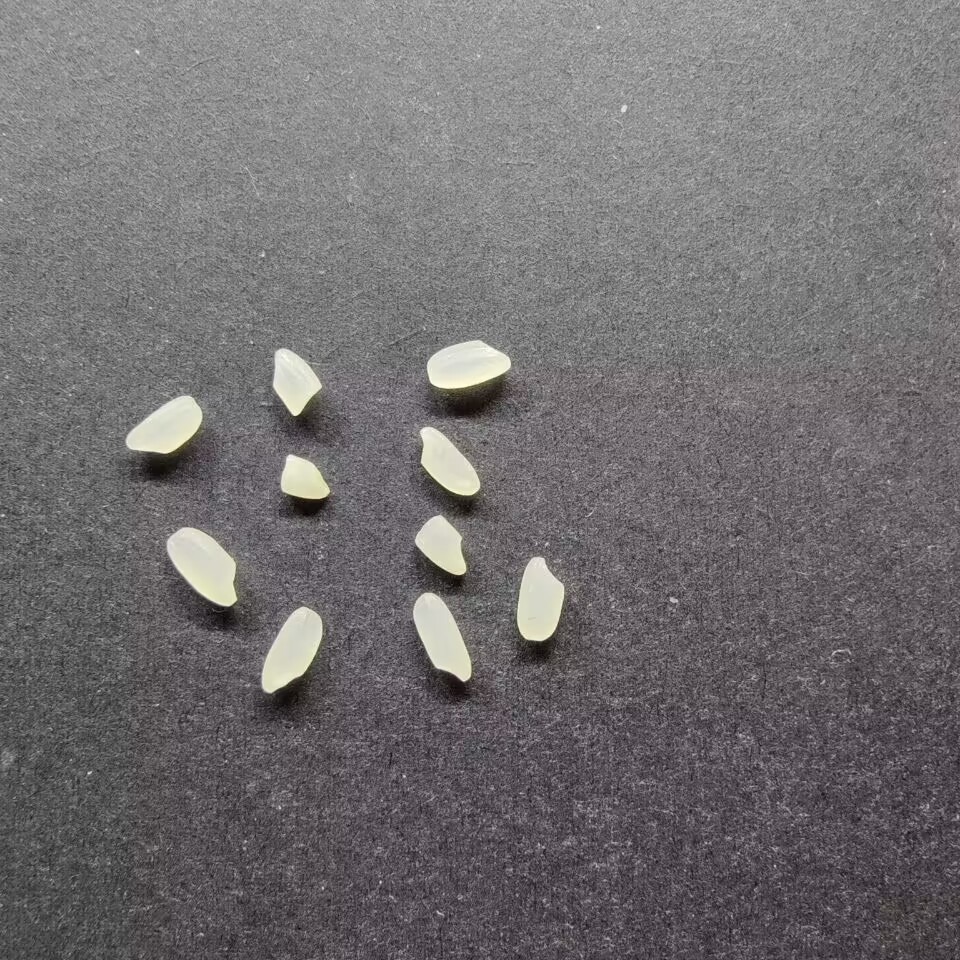broken: (268, 346, 325, 418), (412, 514, 469, 579), (280, 452, 332, 500)
rice: (165, 526, 239, 608), (260, 605, 325, 695), (411, 591, 473, 684), (123, 393, 203, 455), (425, 338, 514, 391), (416, 426, 483, 496), (515, 554, 567, 642)
